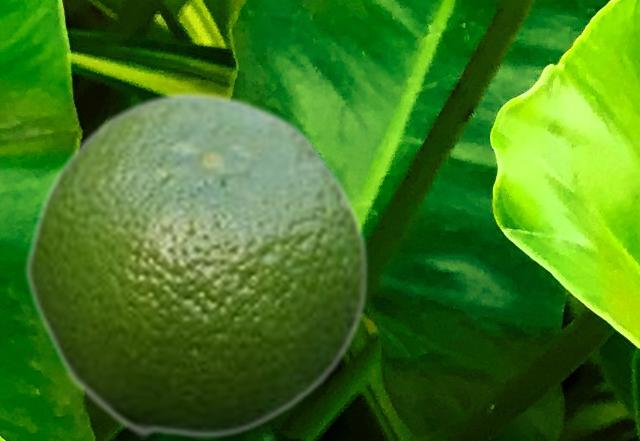calamansi: (23, 88, 369, 438)
